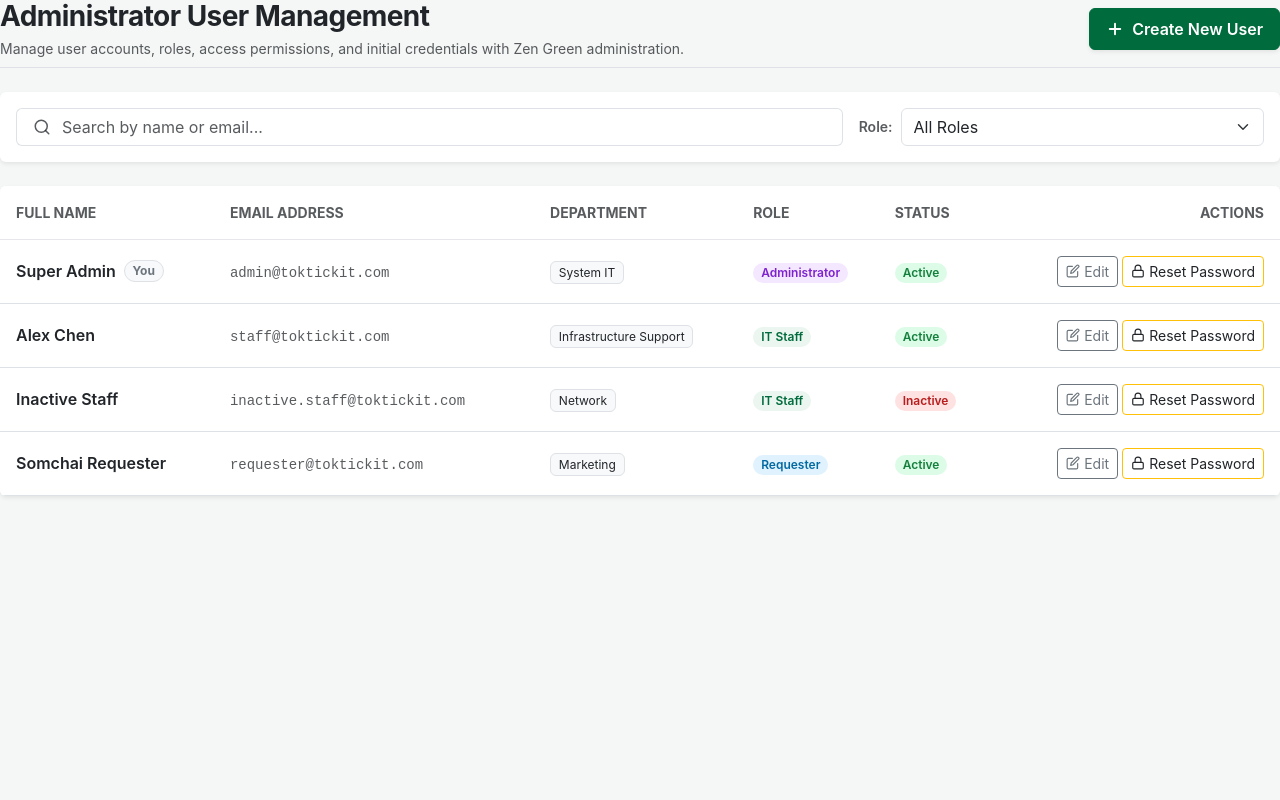
Test: UserManagementView Component (Issue 27 / FR-15..20 / AC-09..12) › disables deactivation toggle and shows warning when editing own account (BR-17 / AC-11)
# Edit current user (ID 1)
What coordinates should you click on to do the following:
click the button with test id "edit-user-btn-1"
I would click on:
 (1088, 271)
Its box is x1=1057 y1=256 x2=1118 y2=287.
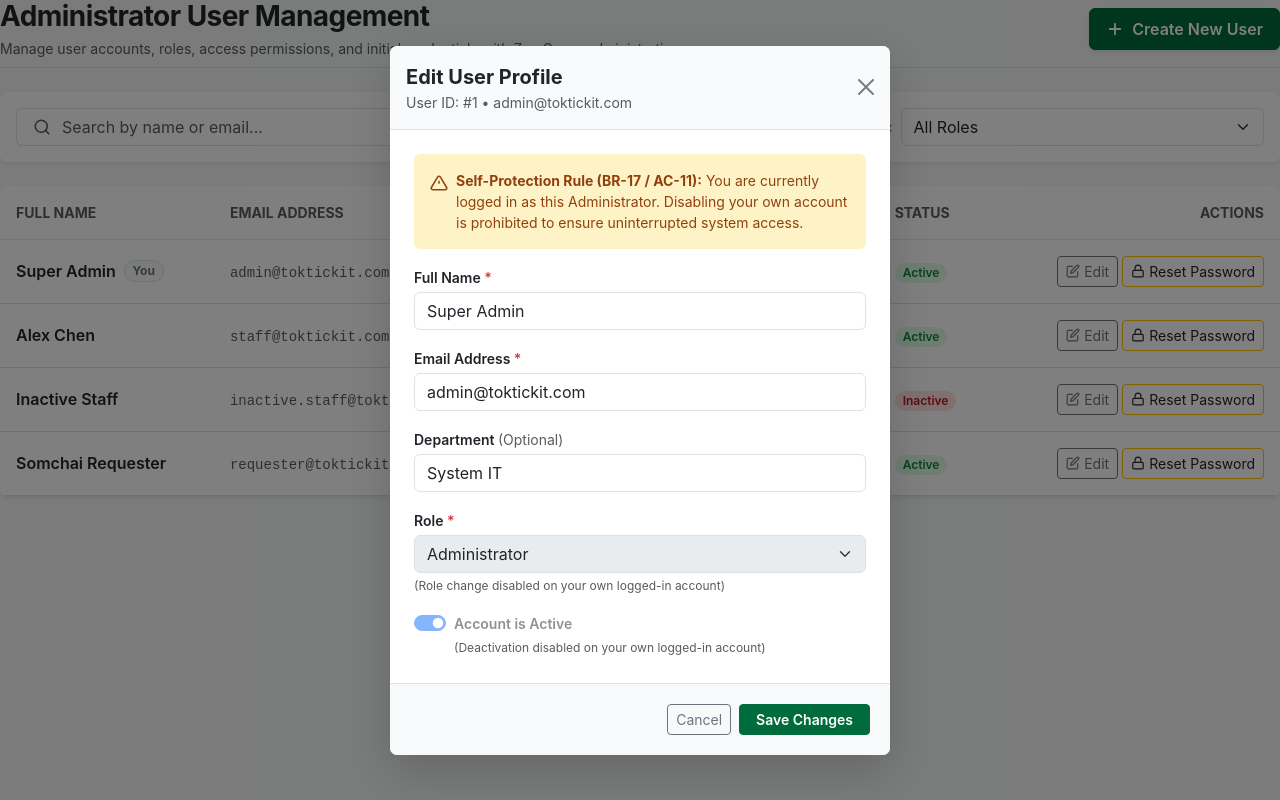
Now the heading "Edit User Profile" is shown, box x1=406 y1=64 x2=563 y2=88
Now the element with test id "self-edit-warning" is shown, box x1=414 y1=154 x2=866 y2=248
Now the switch with test id "edit-user-isactive" is disabled, box x1=414 y1=614 x2=446 y2=630
